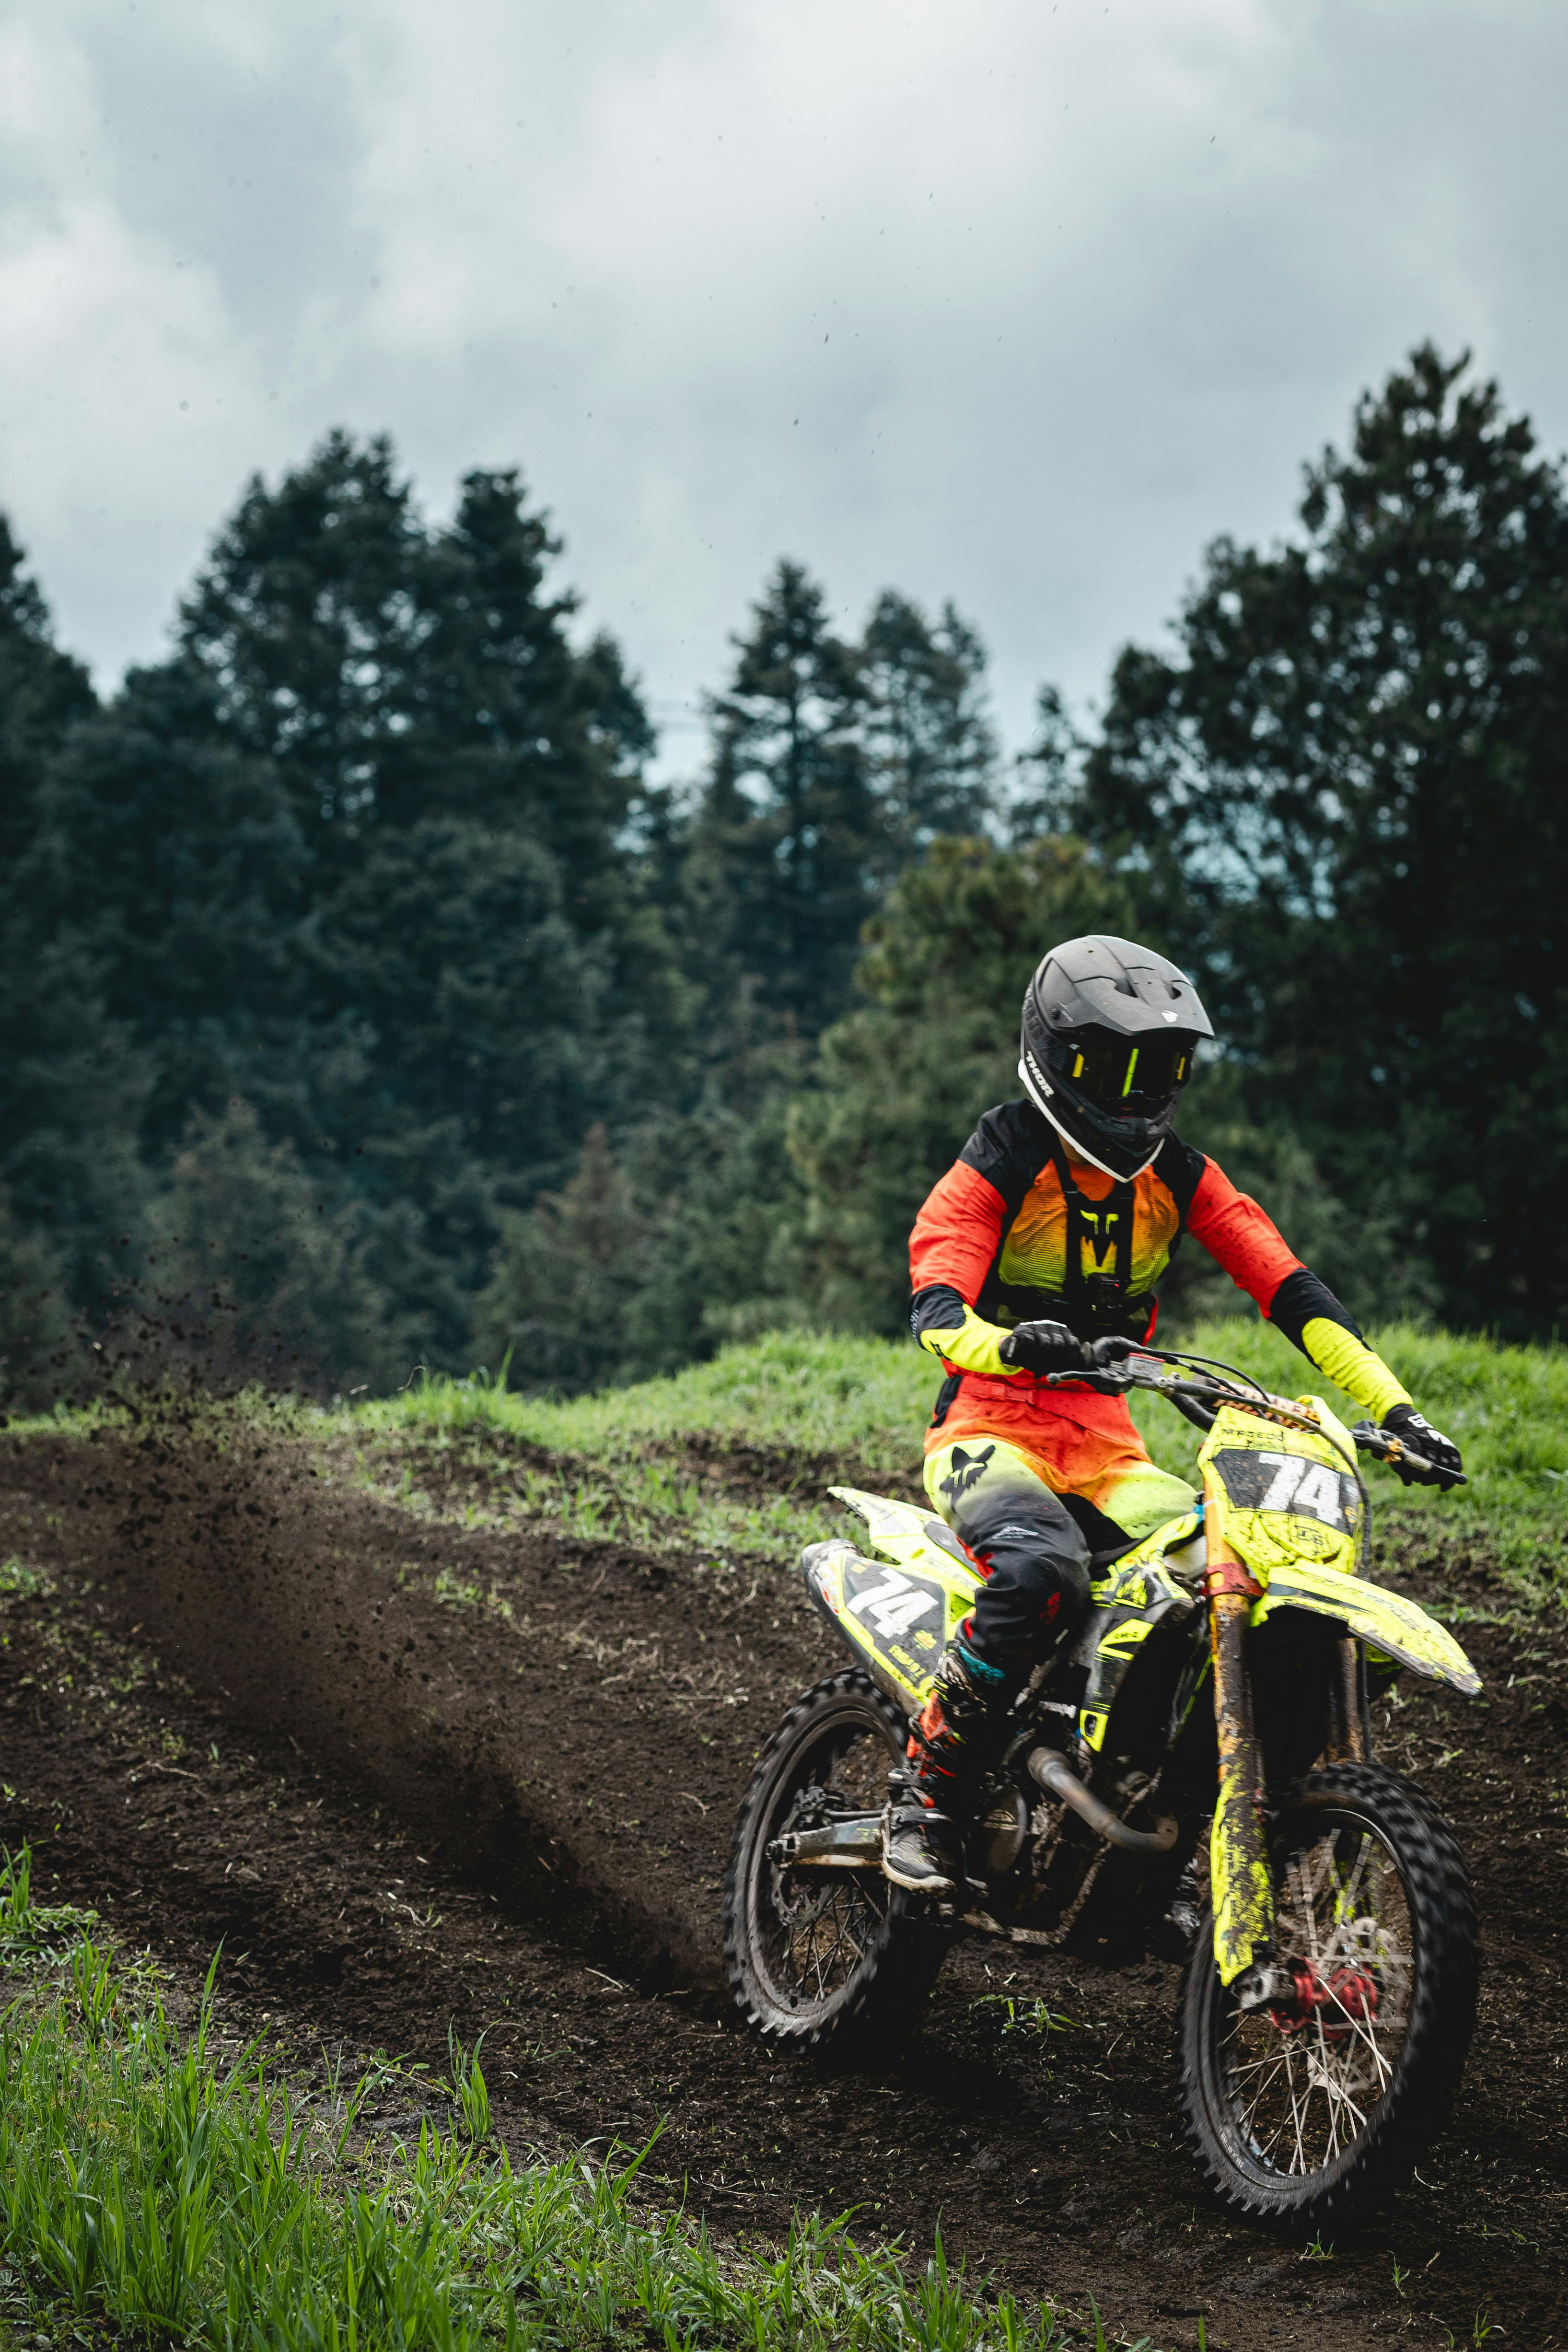capacete: (1013, 922, 1213, 1190)
